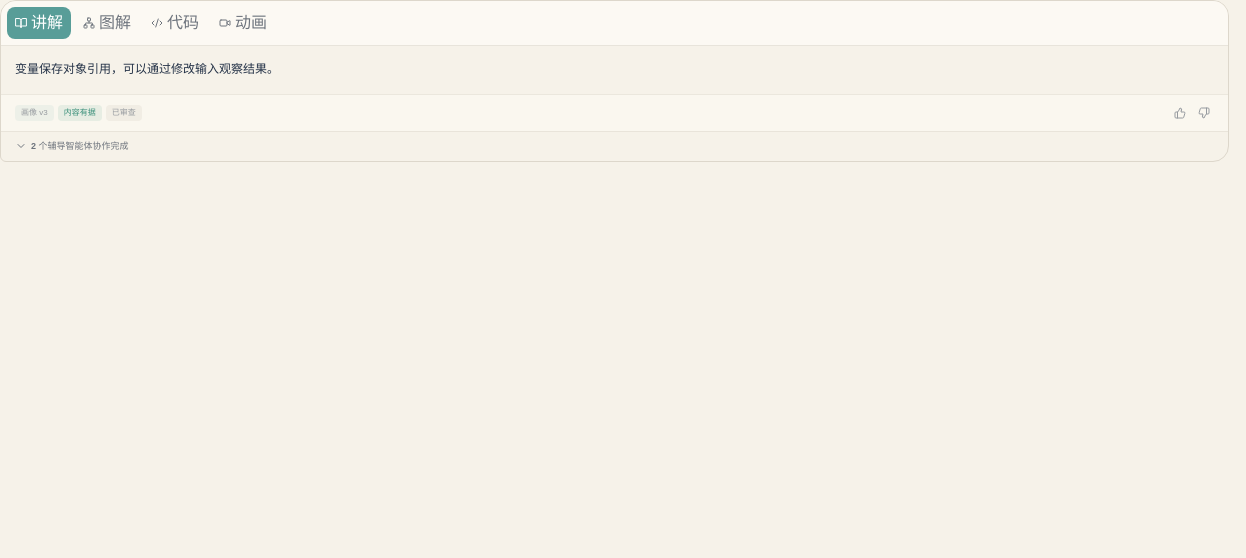
Test: TutorRichResponse › switches between text, diagram, code, and animated storyboard
The width and height of the screenshot is (1246, 558).
Expected: the text "变量保存对象引用，可以通过修改输入观察结果。" is shown, top-left (15, 62), bottom-right (279, 76)
Click the button "图解".
click(107, 23)  # box top-left (75, 7), bottom-right (139, 39)
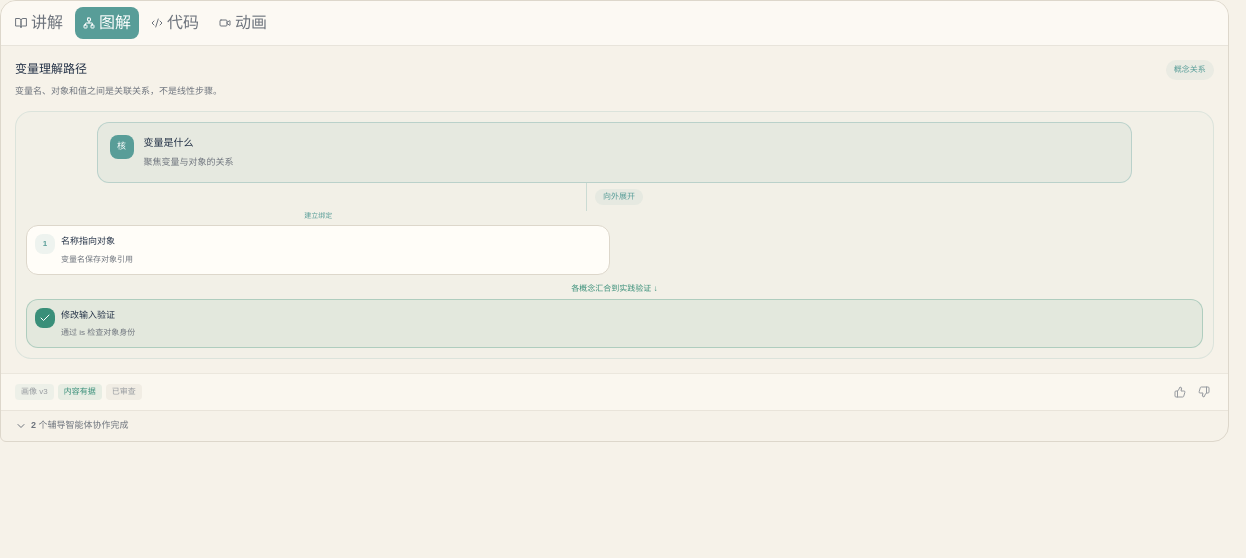
Now the heading "变量理解路径" is shown, box top-left (15, 60), bottom-right (87, 80)
Now the text "名称指向对象" is shown, box top-left (61, 236), bottom-right (115, 246)
Now the text "变量名保存对象引用" is shown, box top-left (61, 253), bottom-right (133, 266)
Click the button "代码".
click(175, 23)  # box top-left (143, 7), bottom-right (207, 39)
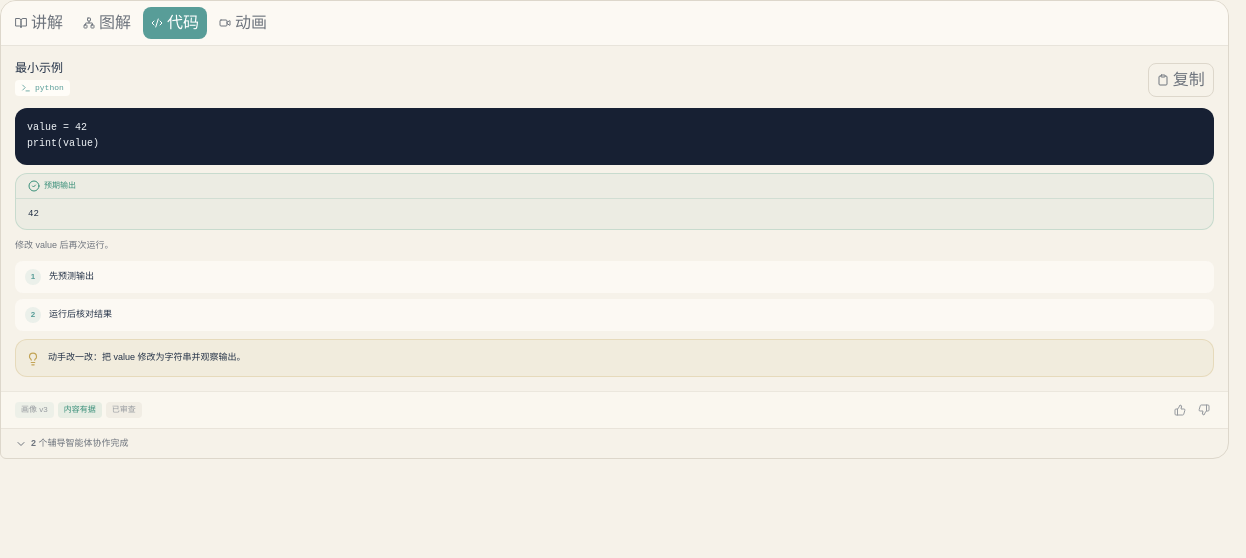
Now the text "value = 42 print(value)" is shown, box top-left (27, 122), bottom-right (99, 149)
Now the text "预期输出" is shown, box top-left (16, 174), bottom-right (1213, 198)
Now the text "把 value 修改为字符串并观察输出。" is shown, box top-left (102, 352), bottom-right (246, 362)
Click the button "动画".
click(243, 23)  # box top-left (211, 7), bottom-right (275, 39)
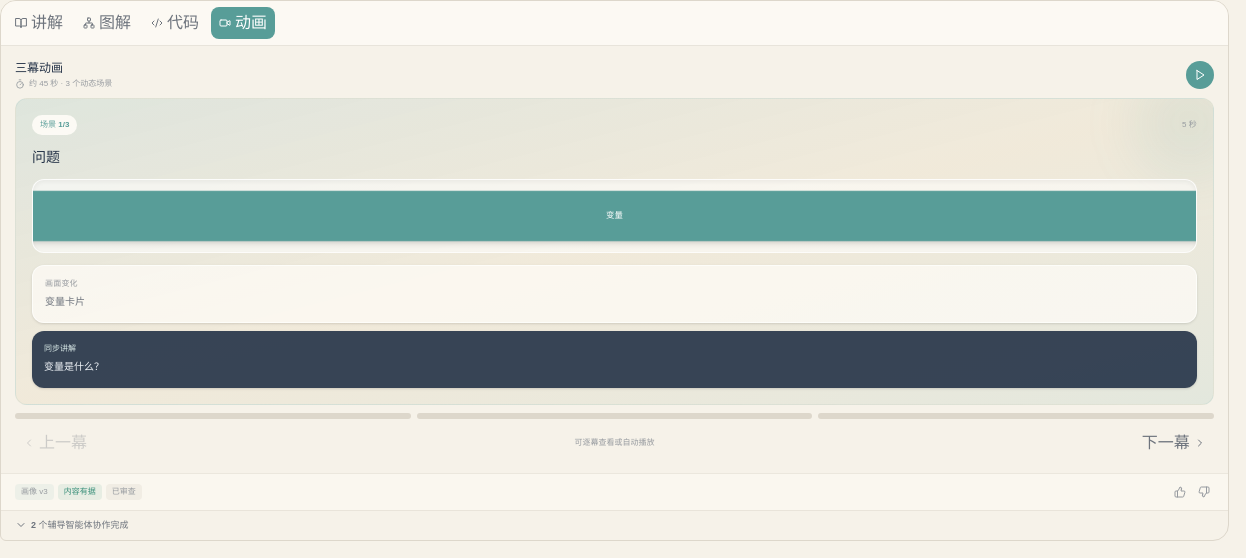
Now the heading "三幕动画" is shown, box top-left (15, 61), bottom-right (63, 75)
Now the text "场景 1/3" is shown, box top-left (32, 115), bottom-right (77, 135)
